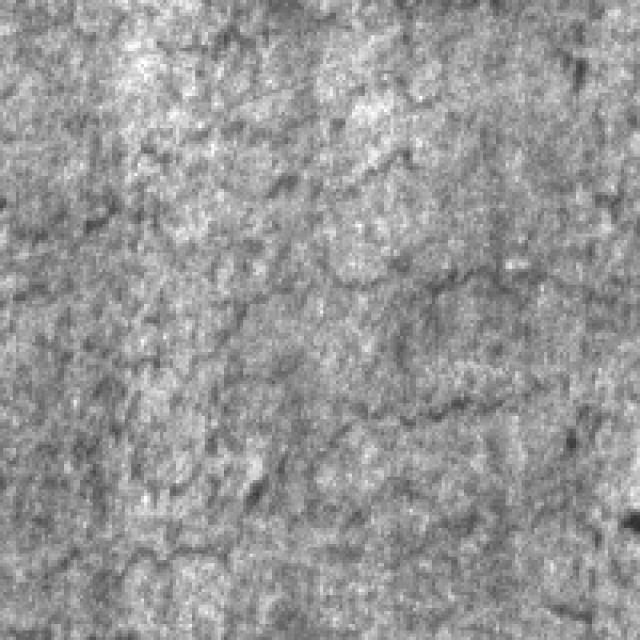crazing: (9, 310, 586, 586), (32, 108, 627, 346), (0, 0, 592, 170)
